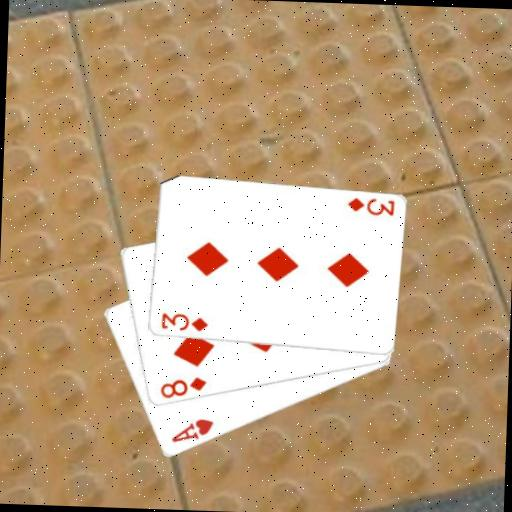3D: (157, 309, 209, 334), (343, 194, 396, 218)
8D: (156, 372, 208, 401)
AH: (168, 415, 215, 446)
